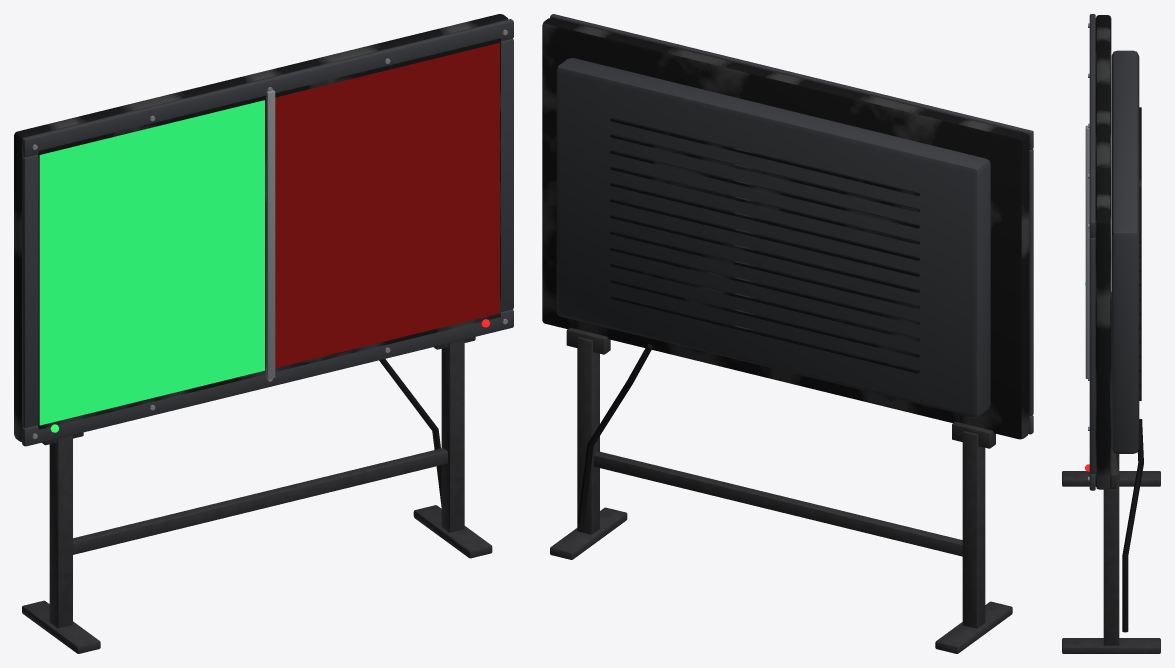
Rendered from split_screen.glb.
The picture shows the model from 3 angles, left to right: view 1: azimuth 30°, elevation 25°; view 2: azimuth 150°, elevation 25°; view 3: azimuth 270°, elevation 25°; orthographic projection. The views are drawn at different scales.
Parts seen in each view (by area): view 1: halfPos, halfNeg, frame; view 2: frame; view 3: frame.
Part boxes in pixels (box(x1,y1,x2,y2)): halfPos: box(39, 100, 264, 425); halfNeg: box(275, 43, 499, 367); frame: box(14, 14, 513, 653); frame: box(542, 14, 1033, 653); frame: box(1062, 14, 1160, 653).
Bounding box in the file's own units: 2.5 × 2.5 × 0.4999.
Materials: 9 (2 with a texture image).
